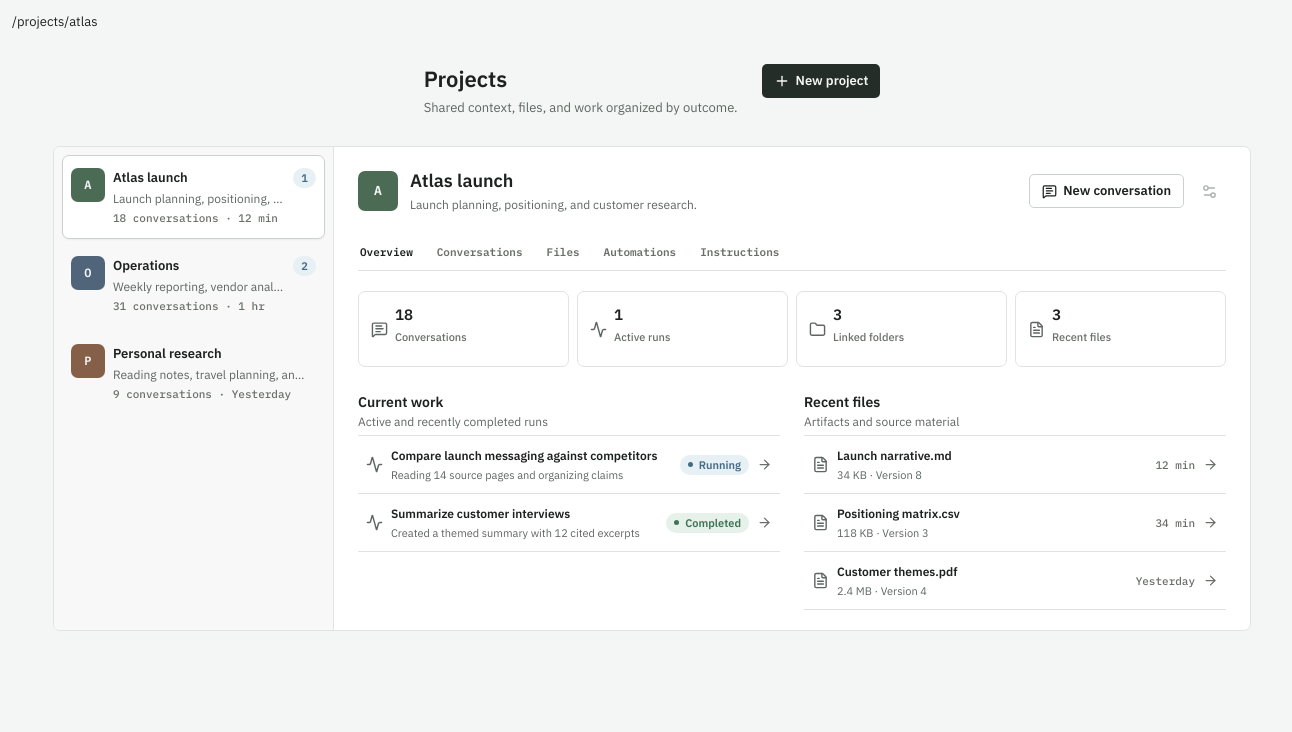
Scenario: ProjectsView › selects a daemon-backed project through the project navigator
Expected: the heading "Atlas launch" is shown, [410,169,514,192]
Click the button "Operations". click: (194, 285)
box: [62,243,325,327]
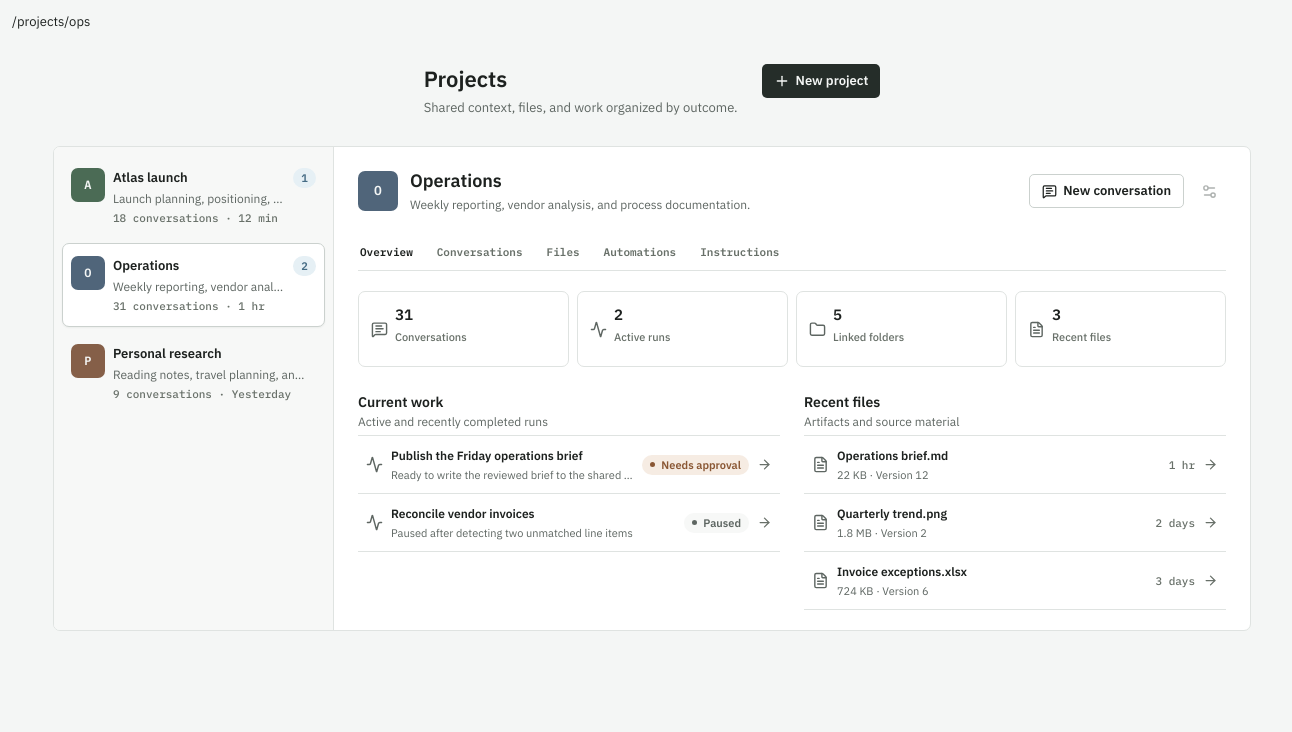
Result: the heading "Operations" is shown at [410,169,502,192]
Result: the text with test id "location" reads "/projects/ops" at [12,13,90,30]
